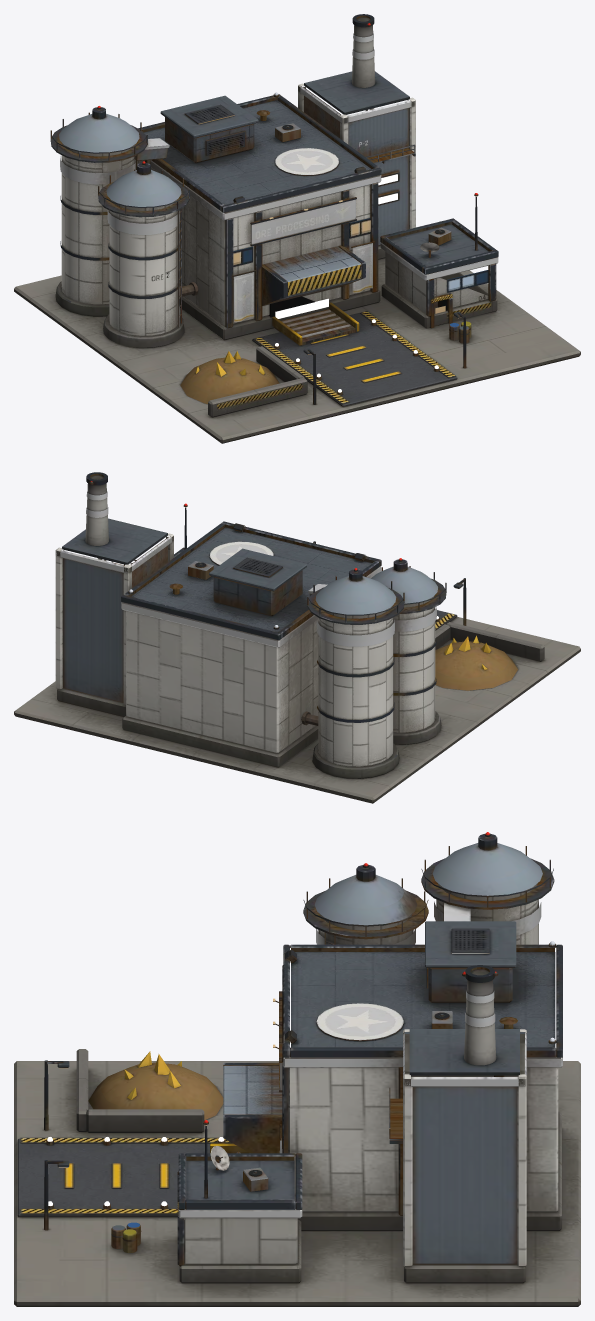
The model's file is proc.allies.glb.
3 views of the same model, one above another, from view 1: azimuth 30°, elevation 25°; view 2: azimuth 150°, elevation 25°; view 3: azimuth 270°, elevation 25° (orthographic). The views are drawn at different scales.
Parts seen in each view (by area): view 1: root_mesh; view 2: root_mesh; view 3: root_mesh.
Boxes of the visible parts, x1,y1,x2,y2 form: root_mesh: [14, 14, 580, 443]; root_mesh: [14, 472, 580, 803]; root_mesh: [14, 832, 580, 1306].
Size of the model in its own units: 2.98 by 1.77 by 2.98.
3 materials, 1 textured.
